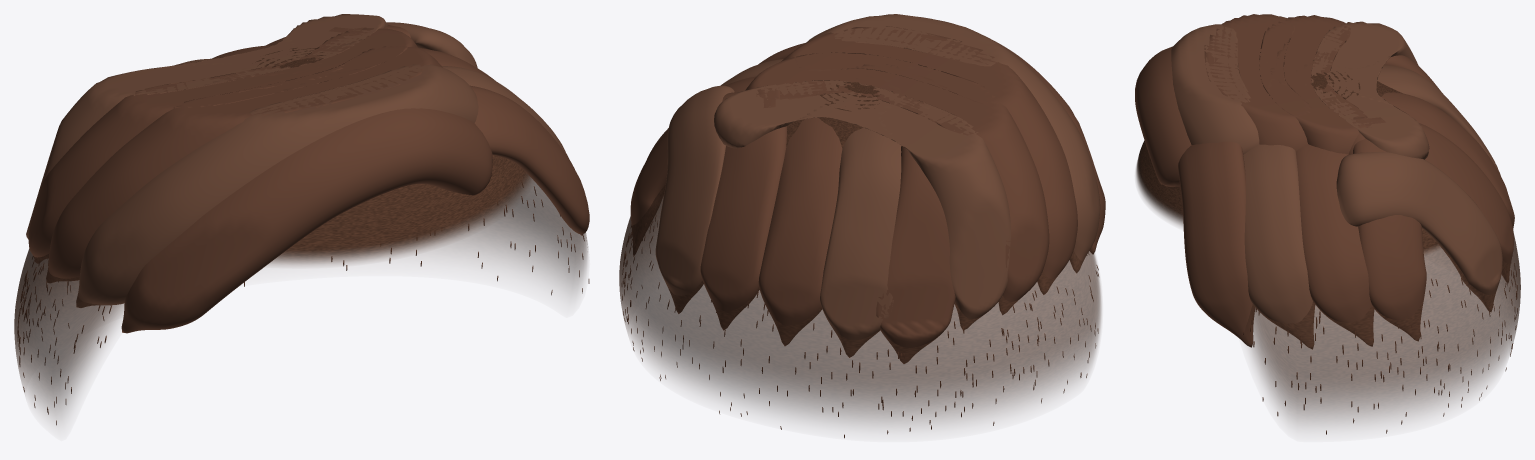
The model's file is Masculine-taper-bucket251-hair.glb.
3 views of the same model, side by side, from view 1: azimuth 30°, elevation 25°; view 2: azimuth 150°, elevation 25°; view 3: azimuth 270°, elevation 25° (orthographic). The views are drawn at different scales.
Visible parts, largest first — view 1: 226 hair / Hair / main251.001, 226 hair / Hair / clipped grain251.001, 226 hair / Hair / close cut strokes251.001; view 2: 226 hair / Hair / main251.001, 226 hair / Hair / clipped grain251.001, 226 hair / Hair / close cut strokes251.001; view 3: 226 hair / Hair / main251.001, 226 hair / Hair / clipped grain251.001, 226 hair / Hair / close cut strokes251.001.
Boxes of the visible parts, box(x1,y1,x2,y2) form: 226 hair / Hair / main251.001: box(26, 14, 589, 333); 226 hair / Hair / clipped grain251.001: box(14, 47, 587, 420); 226 hair / Hair / close cut strokes251.001: box(17, 183, 589, 425); 226 hair / Hair / main251.001: box(630, 14, 1105, 363); 226 hair / Hair / clipped grain251.001: box(619, 82, 1101, 426); 226 hair / Hair / close cut strokes251.001: box(622, 217, 1098, 438); 226 hair / Hair / main251.001: box(1135, 14, 1514, 349); 226 hair / Hair / clipped grain251.001: box(1136, 71, 1520, 426); 226 hair / Hair / close cut strokes251.001: box(1242, 263, 1517, 434).
Bounding box in the file's own units: 0.9812 × 0.6183 × 0.752.
Materials: 4 (1 with a texture image).
